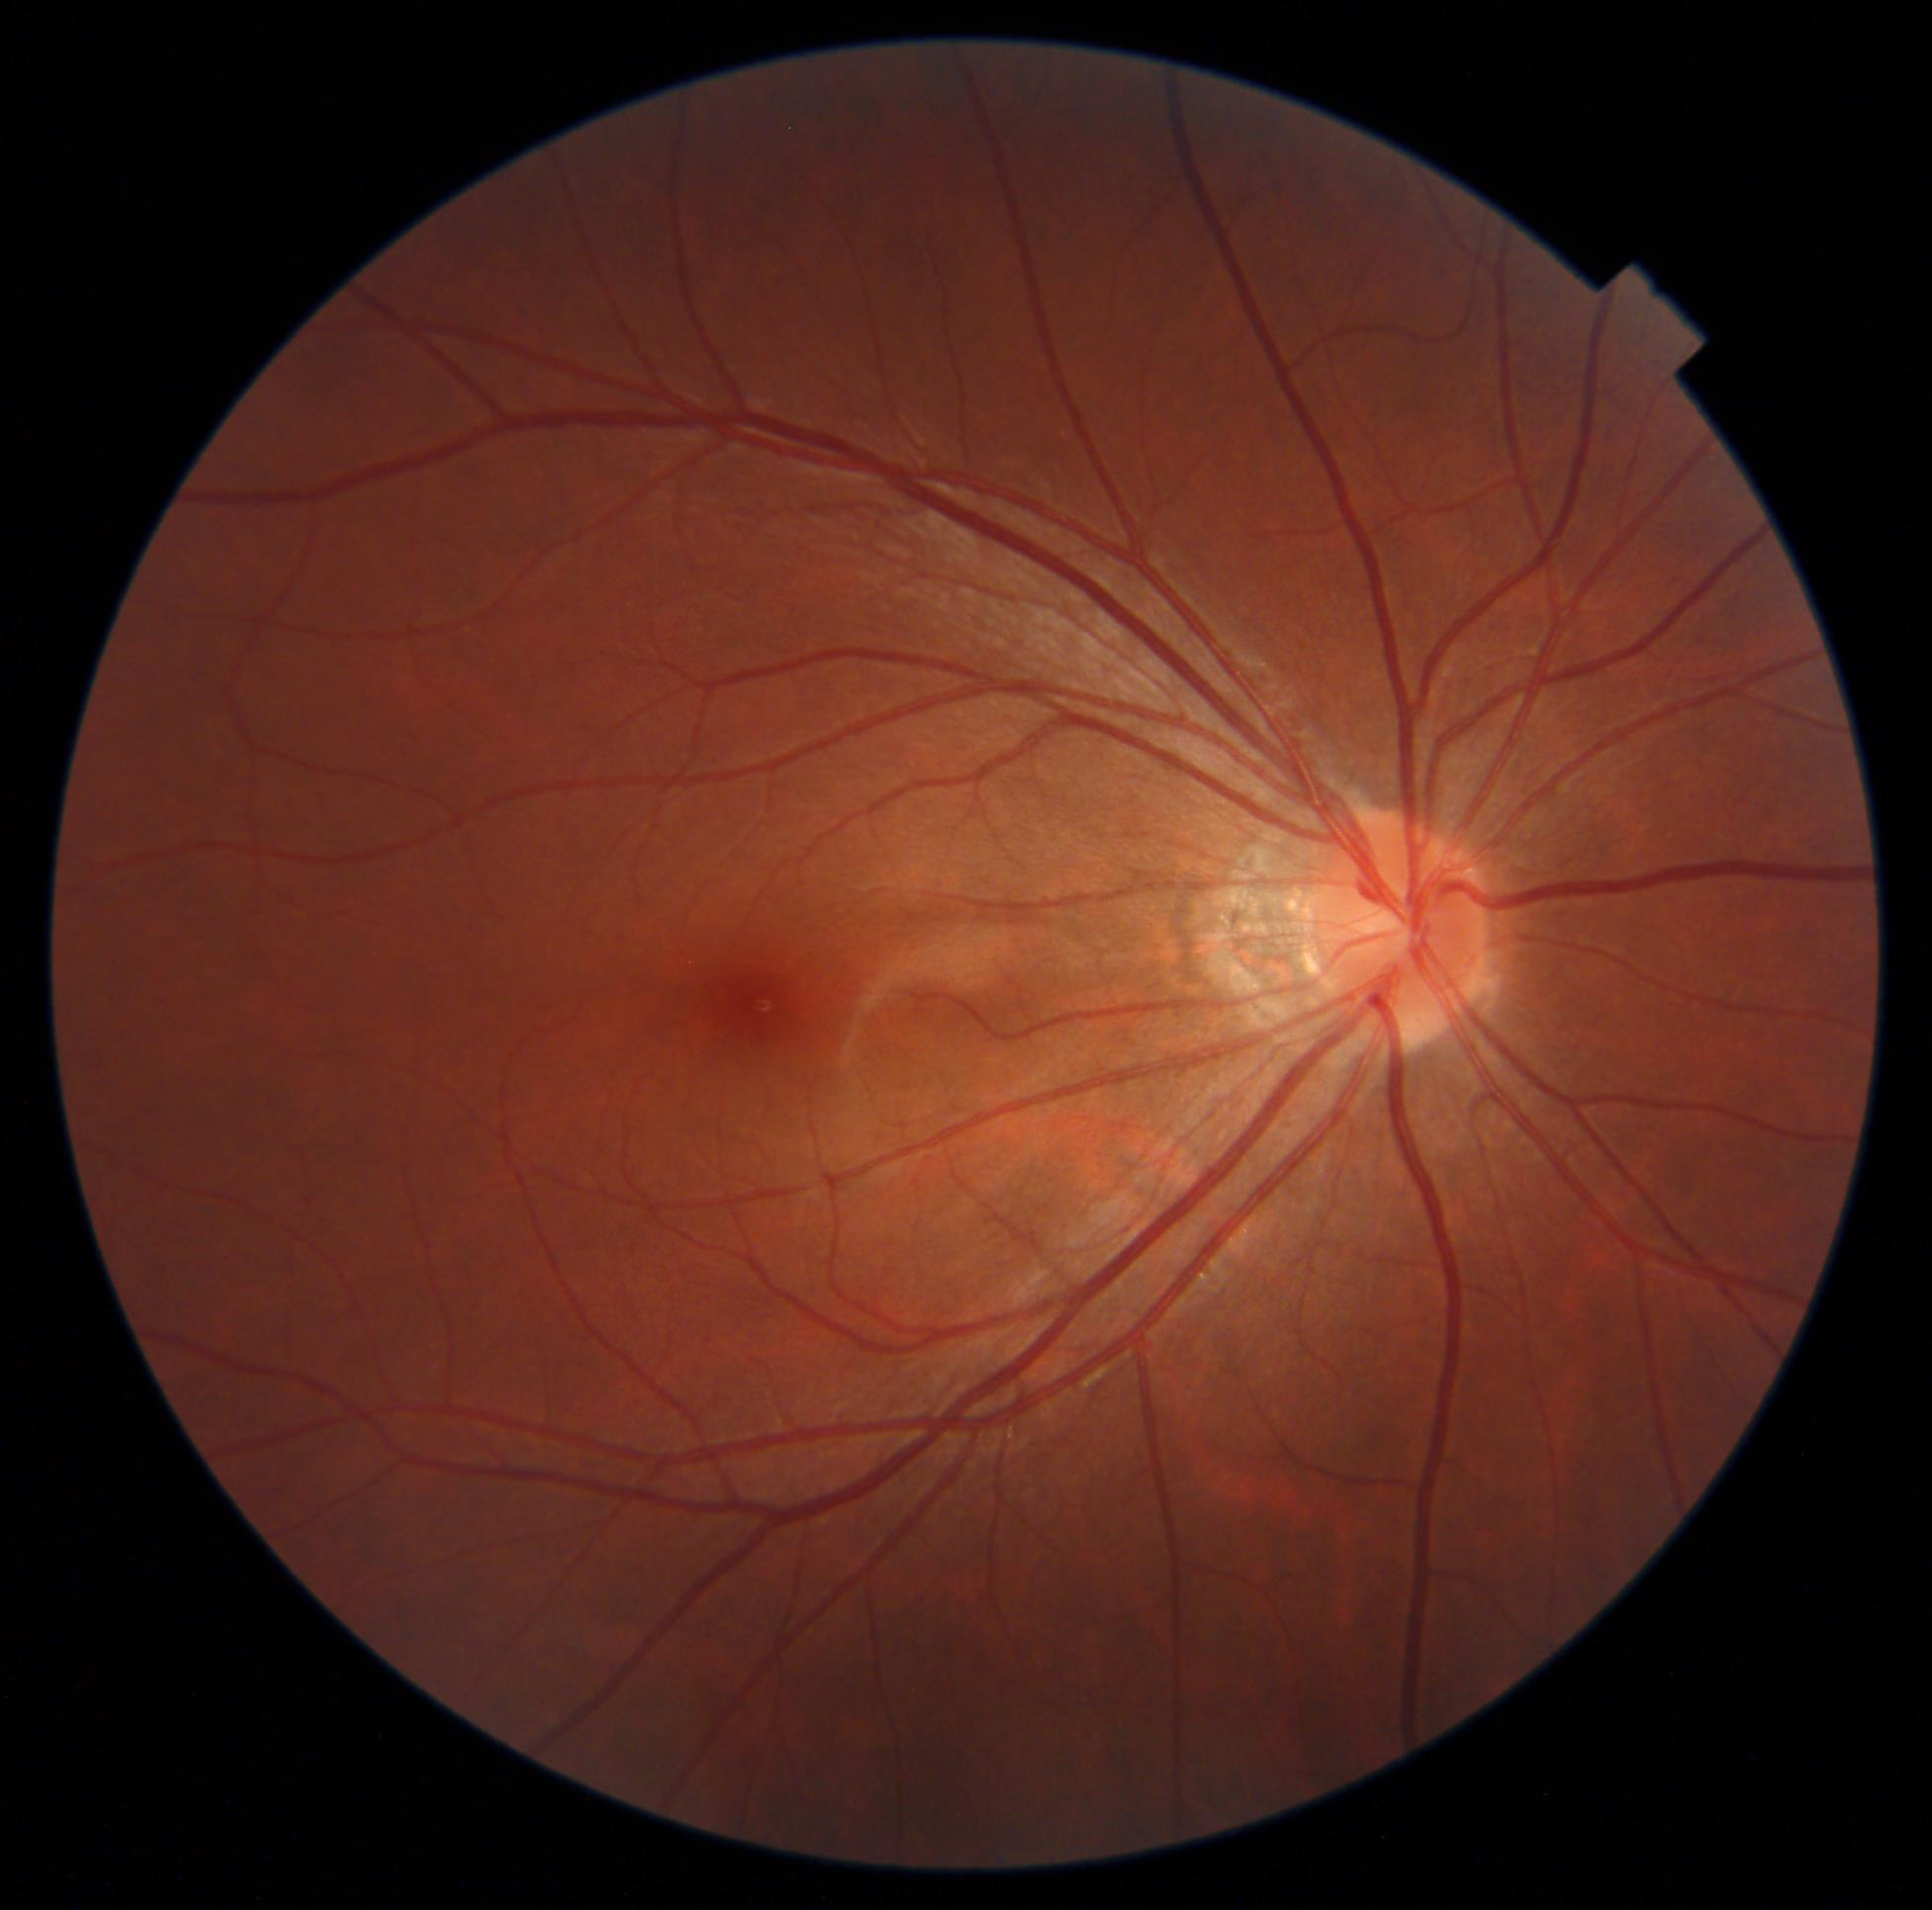Fovea: (646, 890, 871, 1118)
